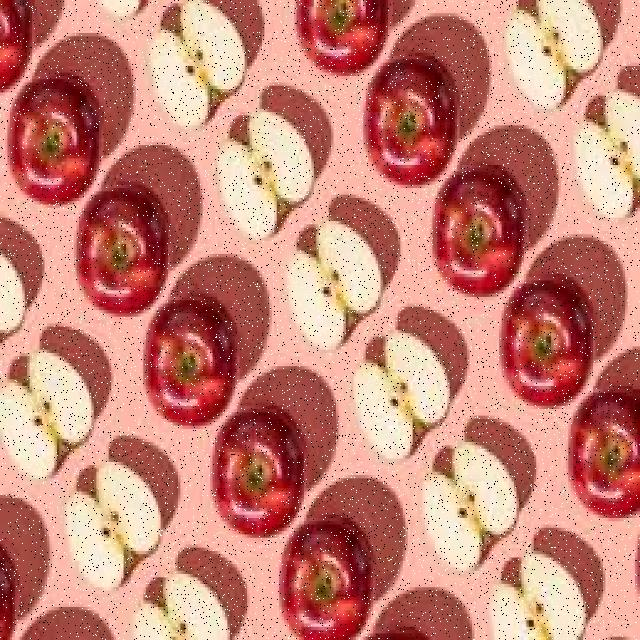Apple: (216, 108, 314, 240), (353, 333, 452, 462), (148, 3, 250, 125), (287, 219, 381, 350), (423, 444, 519, 572), (367, 56, 460, 184), (143, 298, 237, 422), (67, 467, 161, 590), (11, 76, 101, 201), (279, 521, 373, 640), (215, 412, 304, 532), (80, 188, 166, 312), (504, 283, 592, 404), (506, 0, 603, 108), (437, 175, 522, 294), (3, 362, 88, 474), (571, 388, 640, 518), (491, 551, 588, 639), (576, 92, 640, 221), (300, 0, 386, 75), (134, 573, 231, 636), (1, 233, 31, 344), (0, 0, 27, 96), (0, 544, 17, 639), (98, 0, 145, 23)
